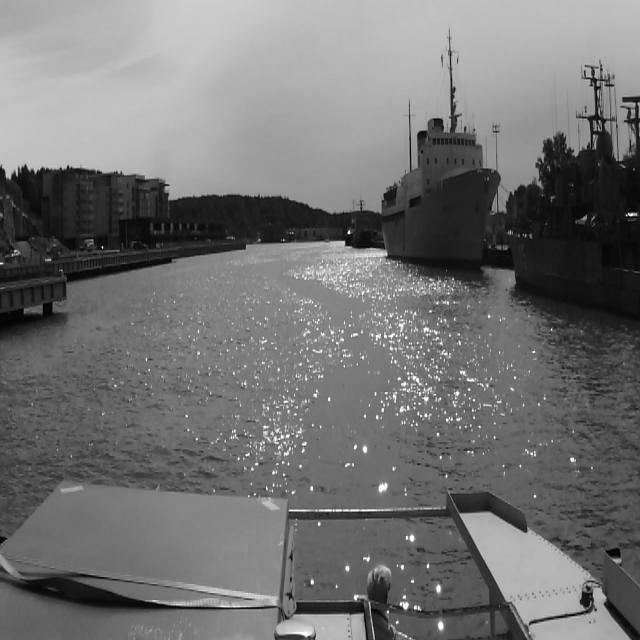ship: (507, 60, 637, 316), (381, 28, 501, 270), (349, 190, 377, 253)
